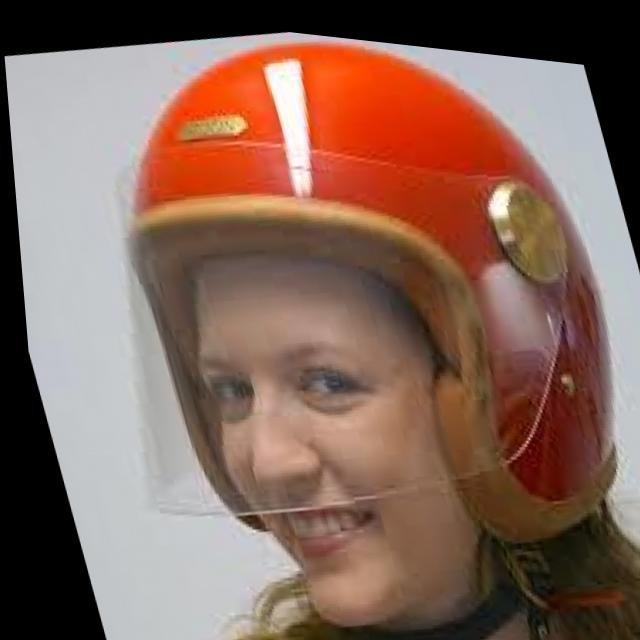Helmet: (102, 36, 627, 632)
